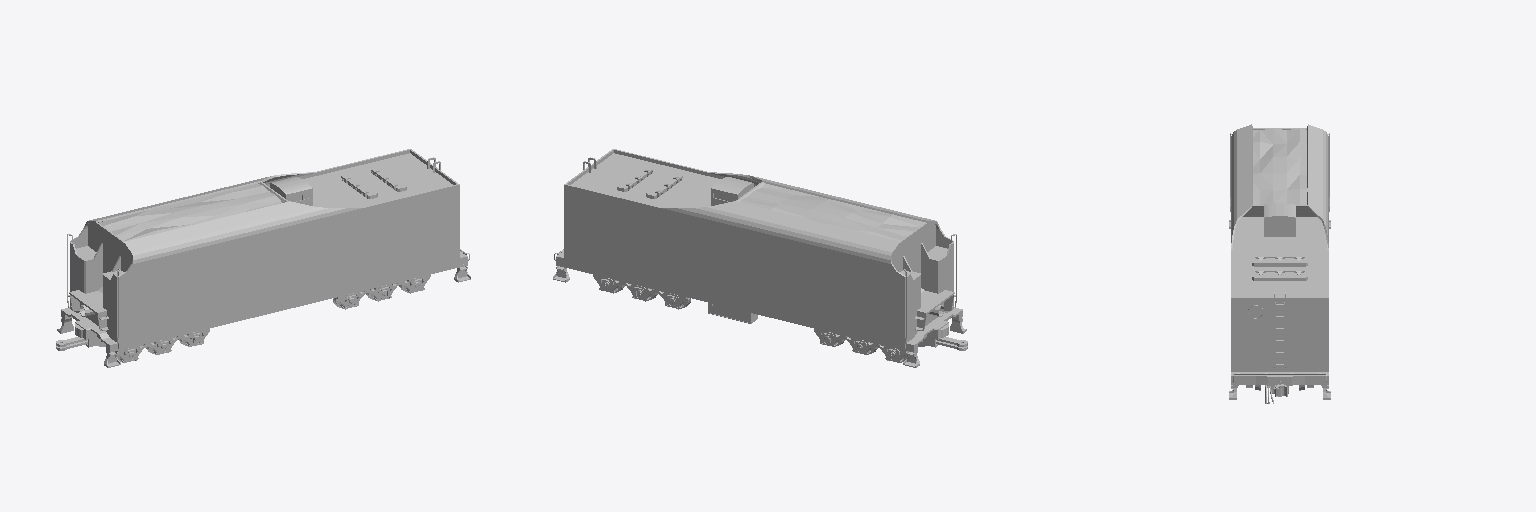
File: auxtender.obj
The picture shows the model from 3 angles: view 1: azimuth 30°, elevation 25°; view 2: azimuth 150°, elevation 25°; view 3: azimuth 270°, elevation 25°; orthographic projection.
Visible parts, largest first — view 1: FRAME, CARGO_FILL_95, BOGEY_FRONT, BOGEY_REAR; view 2: FRAME, CARGO_FILL_95, BOGEY_FRONT, BOGEY_REAR; view 3: FRAME, CARGO_FILL_95.
Boxes of the visible parts, x1,y1,x2,y2 form: FRAME: [56, 149, 470, 367]; CARGO_FILL_95: [99, 184, 281, 241]; BOGEY_FRONT: [116, 329, 209, 362]; BOGEY_REAR: [336, 275, 430, 309]; FRAME: [553, 149, 967, 367]; CARGO_FILL_95: [739, 183, 925, 241]; BOGEY_FRONT: [814, 329, 907, 362]; BOGEY_REAR: [593, 275, 687, 309]; FRAME: [1229, 124, 1330, 403]; CARGO_FILL_95: [1253, 129, 1307, 204].
Bounding box in the file's own units: 15.15 × 4.61 × 3.34.